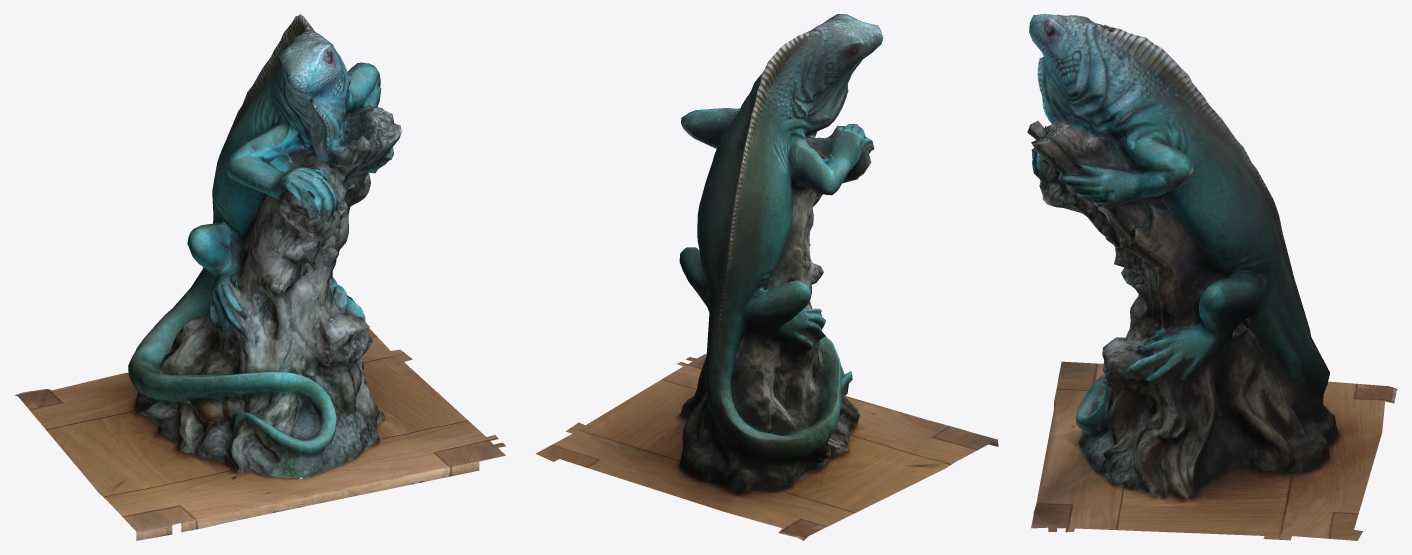
File: sf-iguana-sculpture-671dc0.glb
3 renders of one model, left to right at view 1: azimuth 30°, elevation 25°; view 2: azimuth 150°, elevation 25°; view 3: azimuth 270°, elevation 25°, orthographic. The views are drawn at different scales.
Visible parts, largest first — view 1: instant.001_lowpoly_0; view 2: instant.001_lowpoly_0; view 3: instant.001_lowpoly_0.
Boxes of the visible parts, <box> form: instant.001_lowpoly_0: <box>15,14,505,540</box>; instant.001_lowpoly_0: <box>536,14,998,540</box>; instant.001_lowpoly_0: <box>1027,14,1397,540</box>.
Size of the model in its own units: 2034 by 2302 by 1758.
Materials: 1 (1 with a texture image).
